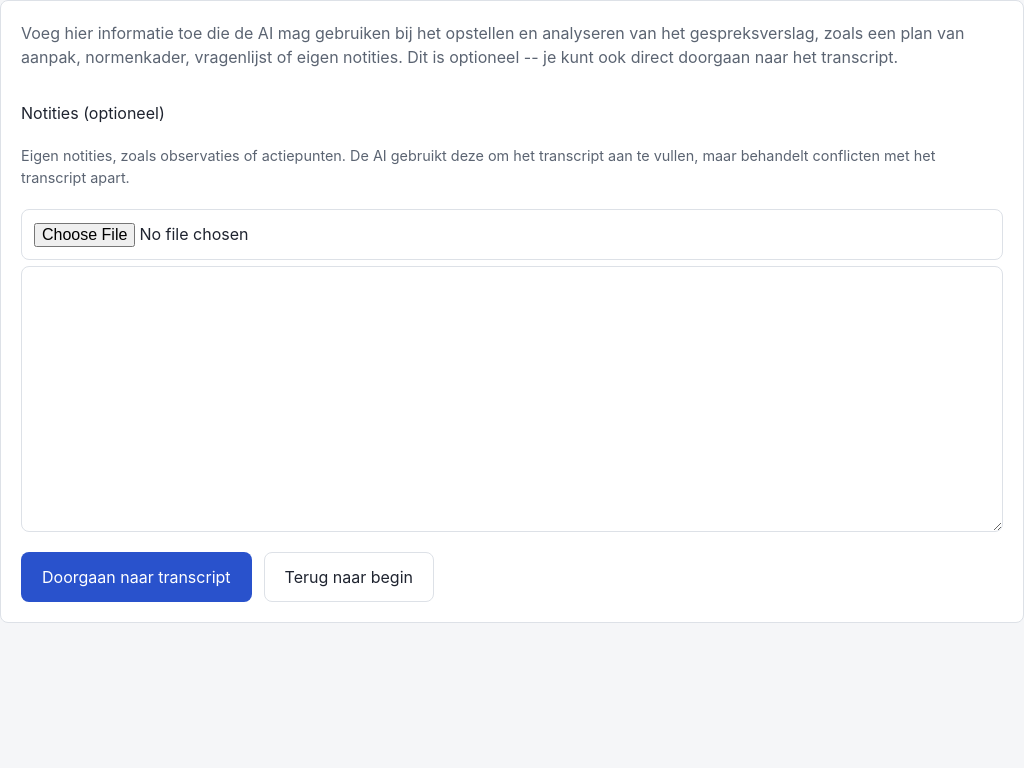
routes/Context/ContextStepScreen › shows a translated error message when continuing fails
Click the button "Doorgaan naar transcript".
click(136, 577)  # box [21,552,252,602]
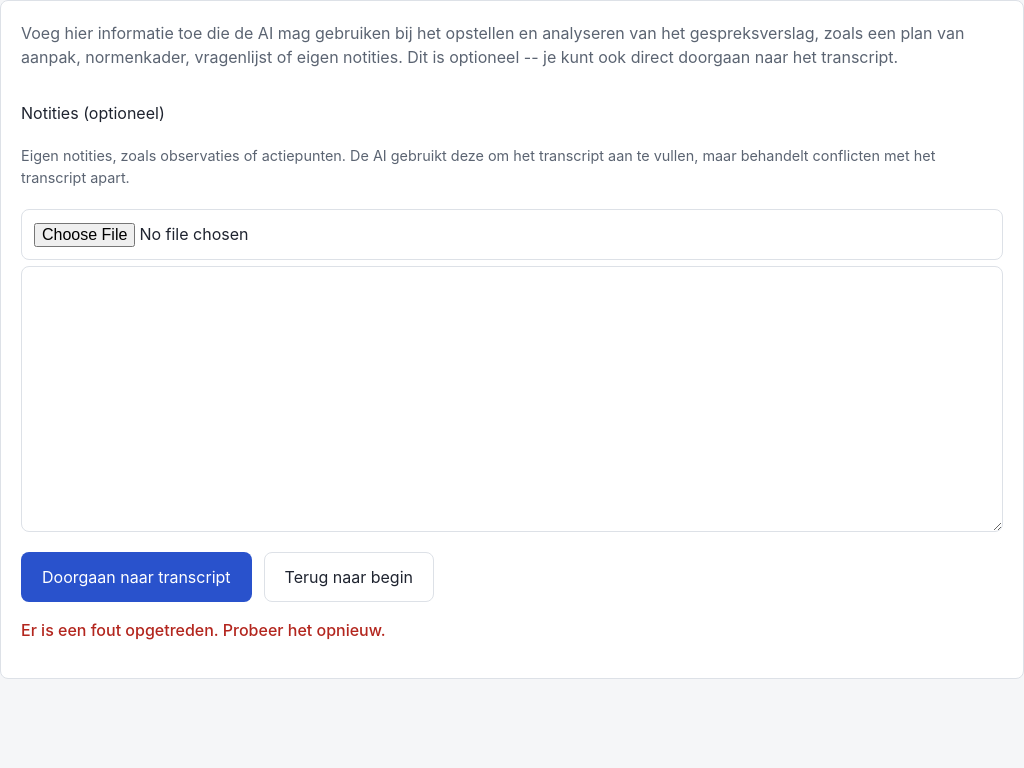
Now the message shows "Er is een fout opgetreden.", box [21,620,386,640]
